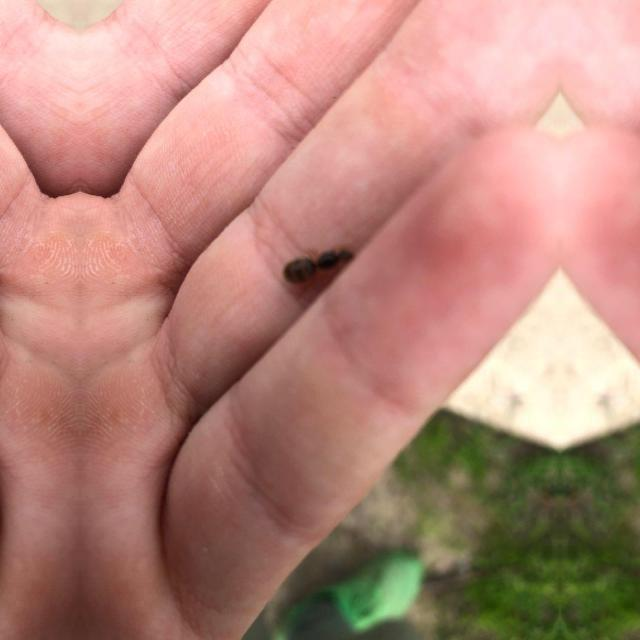Lasius: (276, 228, 358, 288)
